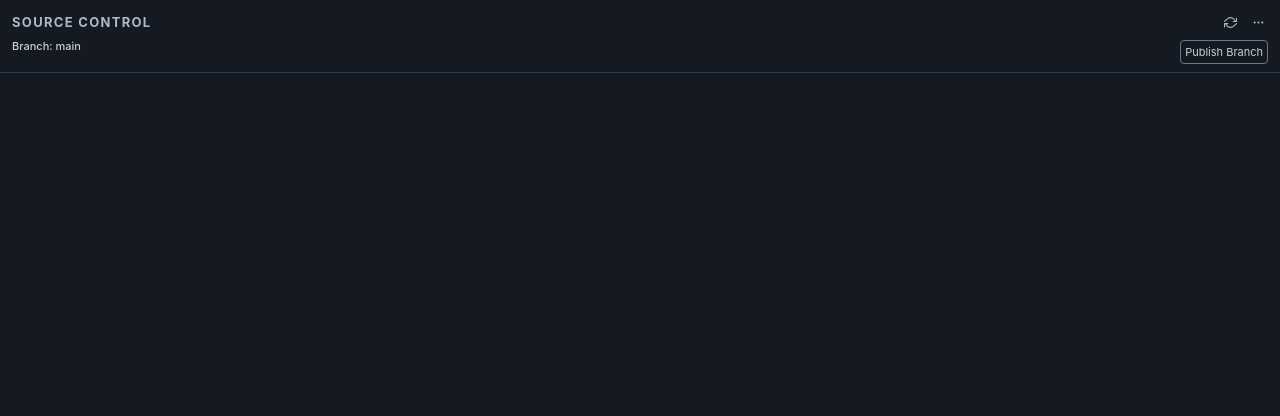
Scenario: ScmHeader: what the git actions are refused for › refuses Pull and Push on a branch that is not published, leaving Publish
The width and height of the screenshot is (1280, 416).
Click the button named "More actions". click: (1258,22)
box: [1248, 12, 1268, 32]
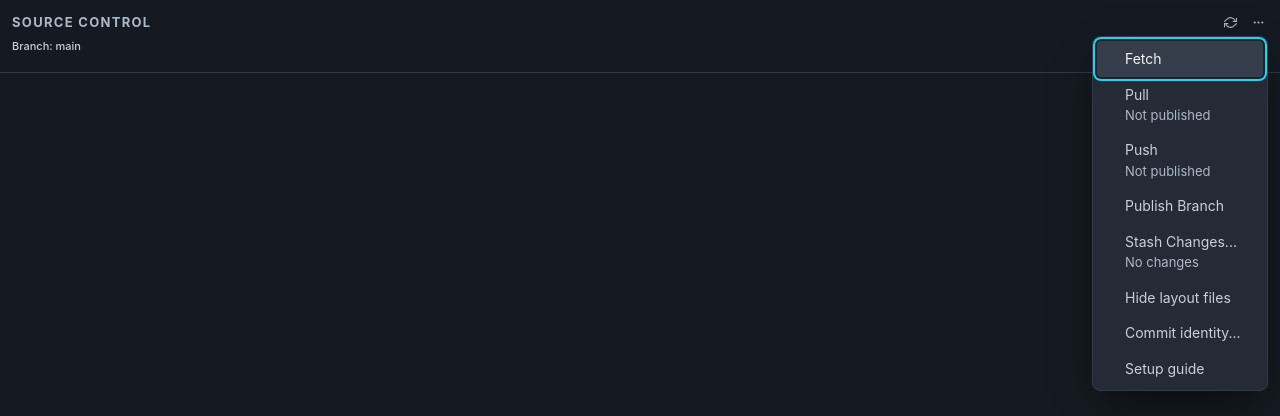
Check: the 1st text "Not published" is shown, box [1125, 107, 1210, 123]
